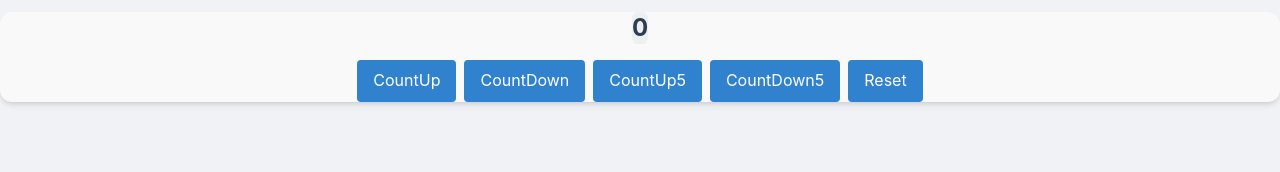
Scenario: CounterContainer › CountDown5ボタンで5減る
Click the button "CountDown5" at (775, 81), box [710,60,840,102]
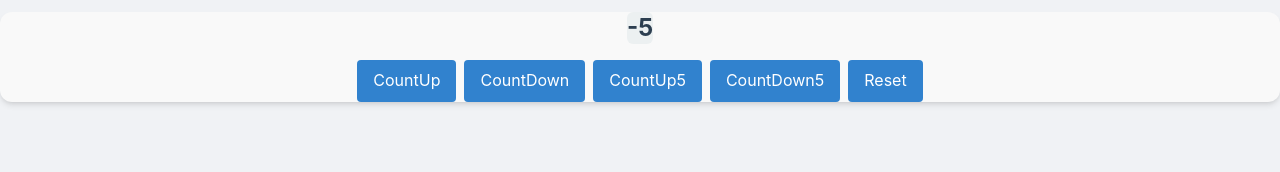
Check: the text "-5" is shown, box [627,12,653,44]
